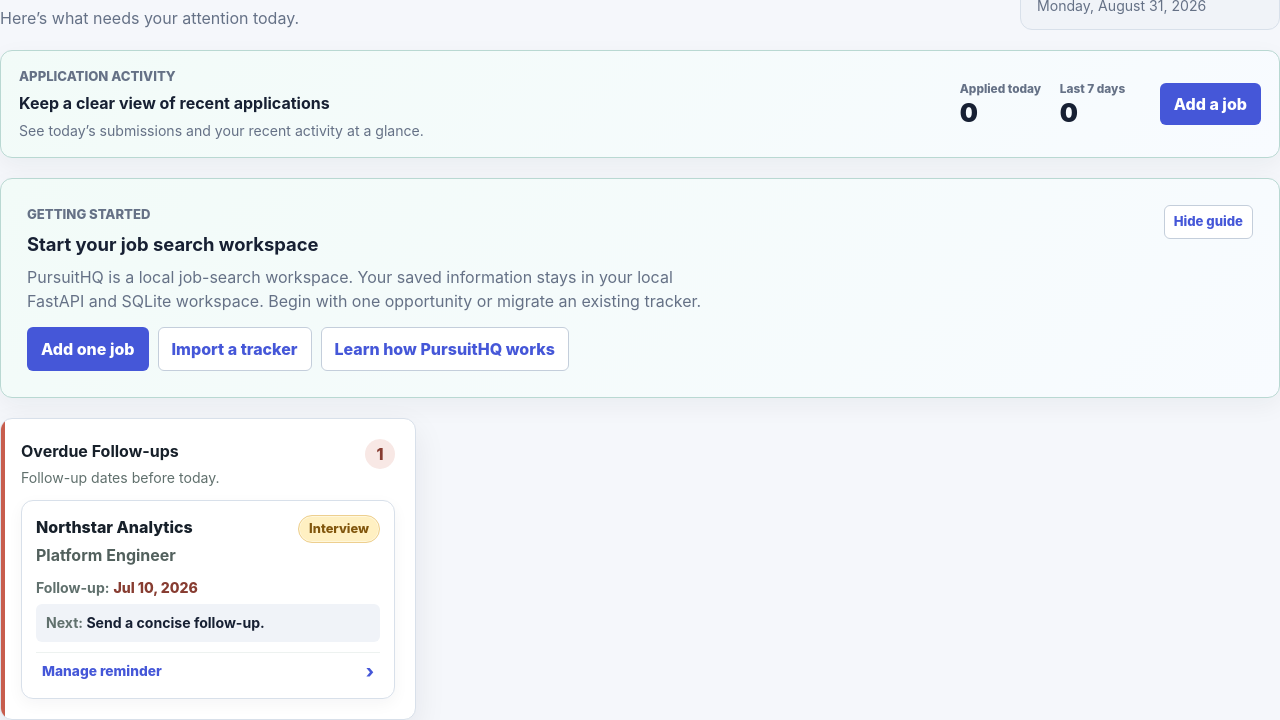
Scenario: CommandCenterPage › keeps a non-conflict failure in the dialog
(page scrolled)
Click the button with class "command-center-manage-reminder" at (102, 671), box [36,652,380,684]
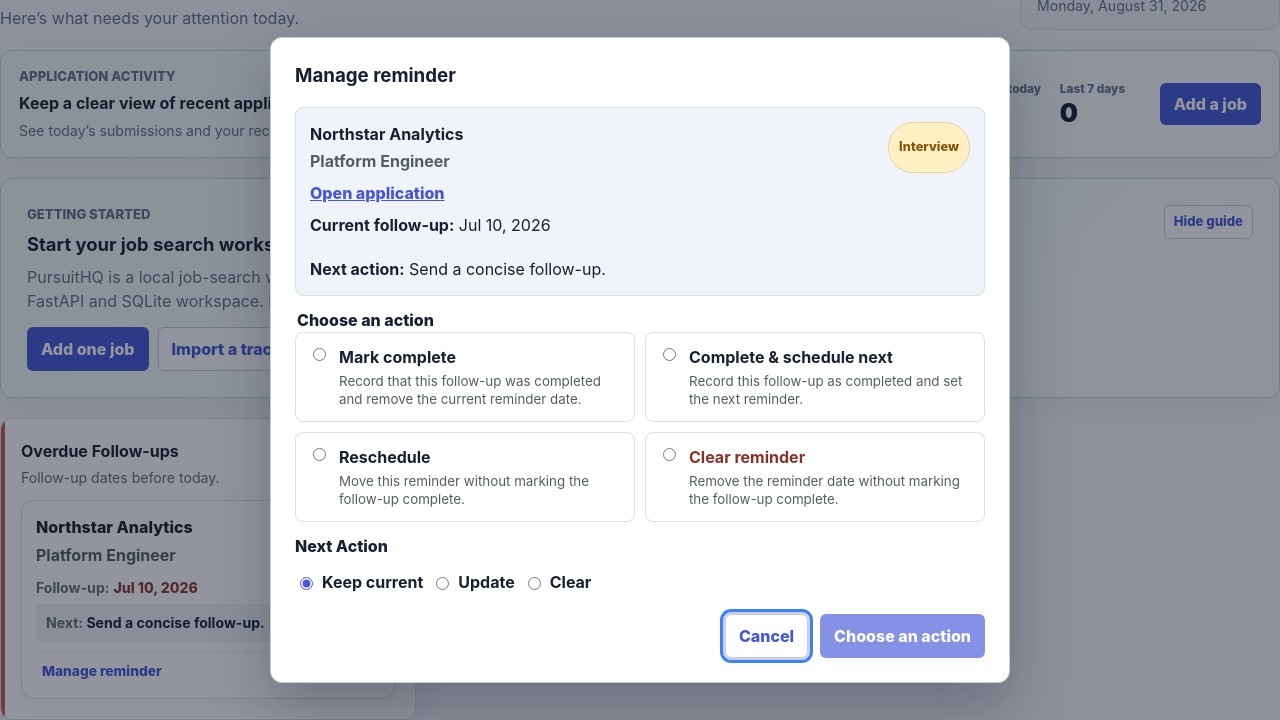
Click the 1st radio button at (320, 354), box [313,348,326,361]
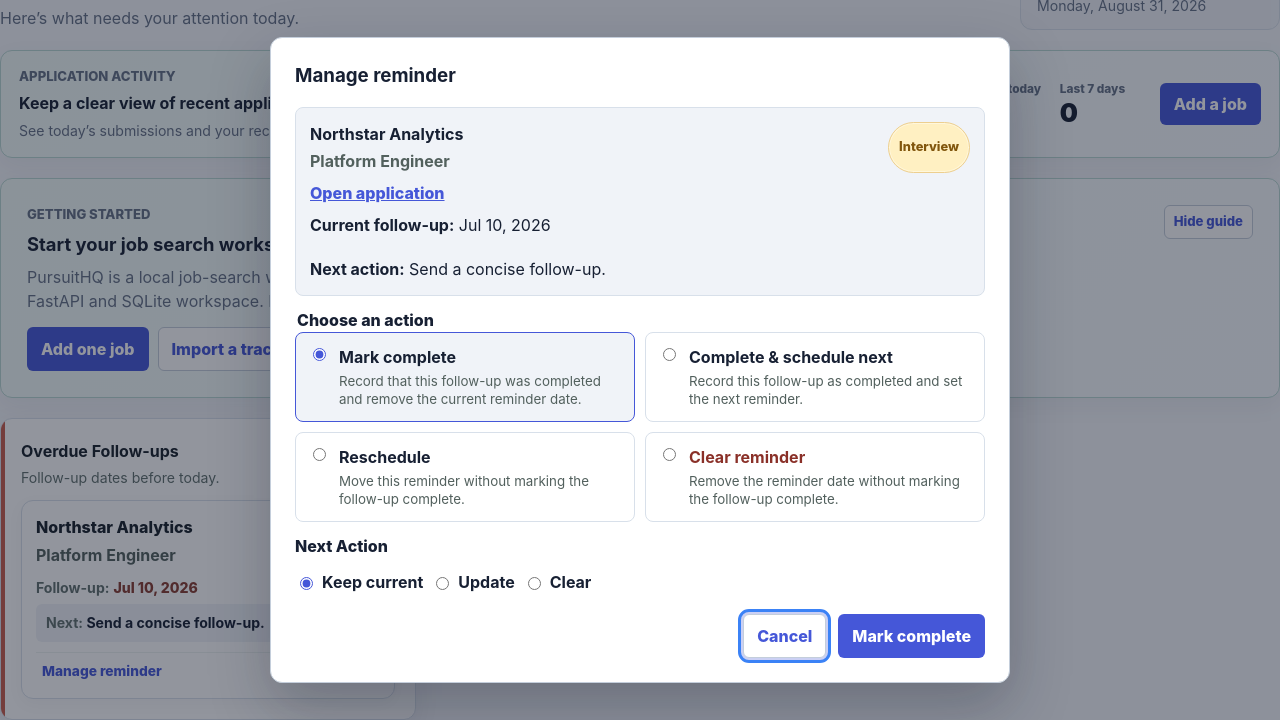
Click the button "Mark complete" at (912, 636), box [838,614,985,658]
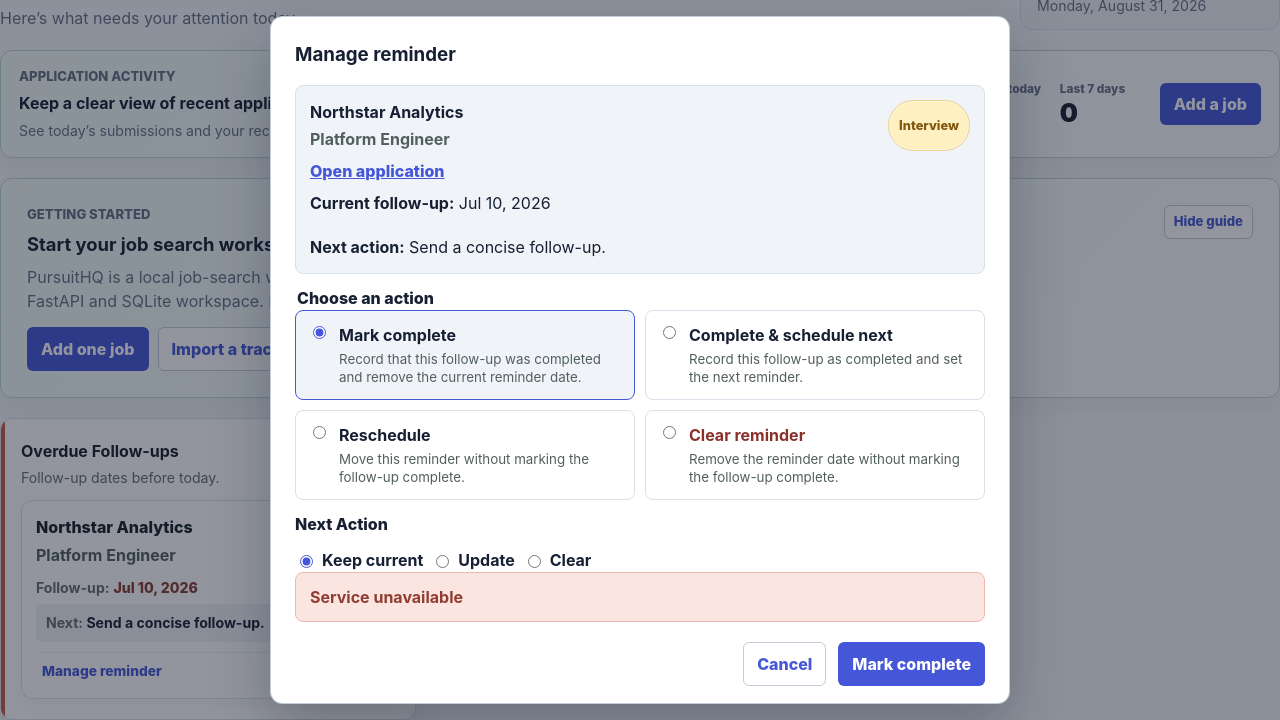
expect the dialog is shown: met, box [270,16,1010,704]
expect the text "Service unavailable" is shown: met, box [295,572,985,622]
